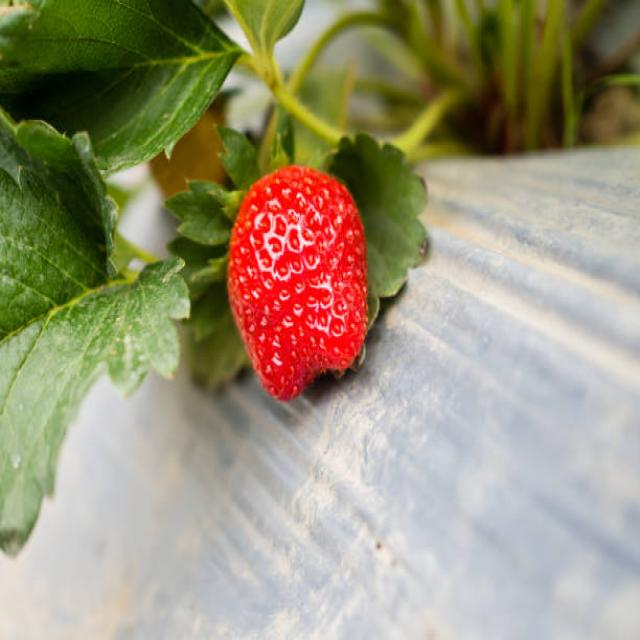Healthy Fruit: (229, 166, 368, 400)
